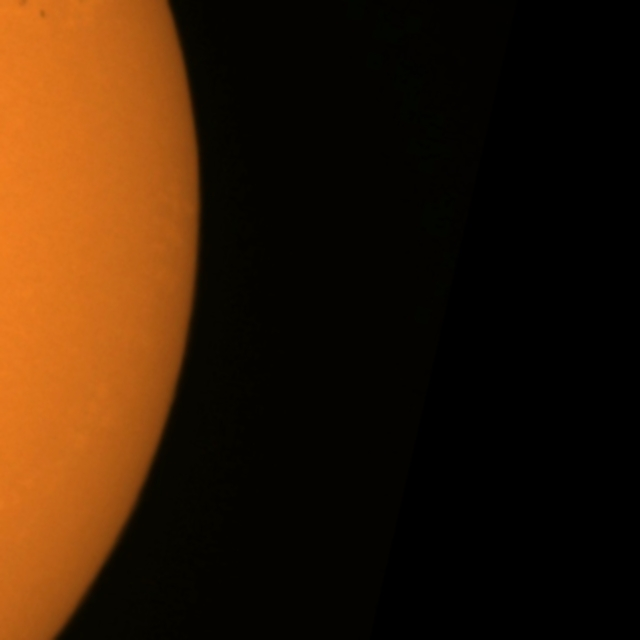sunspot: (15, 1, 47, 22), (37, 7, 48, 22)
